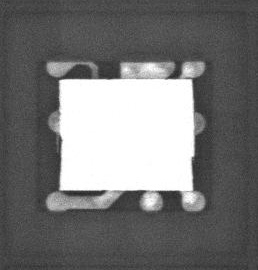DIE_BROKEN: (57, 134, 63, 173)
